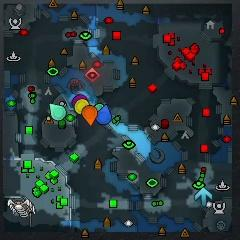Other: (85, 67, 101, 83)
p1: (97, 104, 111, 125)
p2: (50, 103, 66, 121)
p3: (72, 94, 88, 107)
p4: (74, 100, 90, 115)
p5: (82, 106, 97, 126)
x3: (195, 188, 212, 206)
